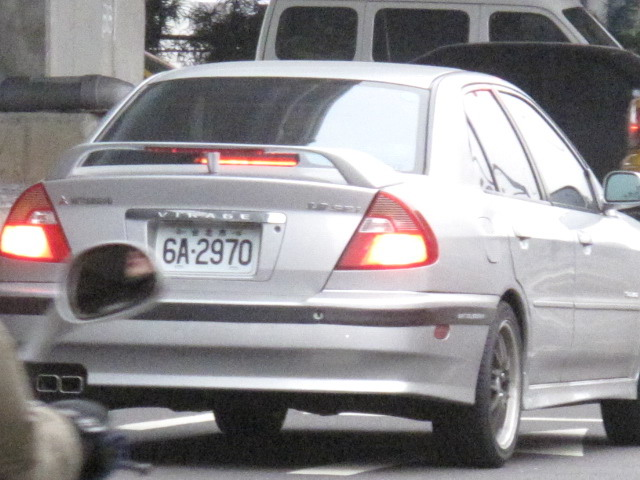plate: (160, 222, 256, 275)
